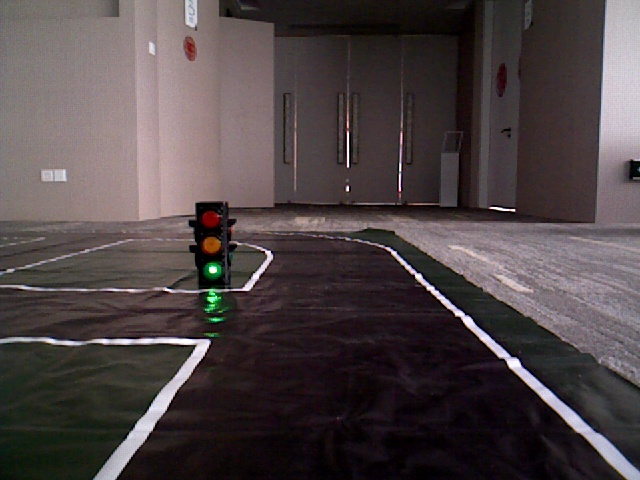green: (197, 198, 230, 279)
